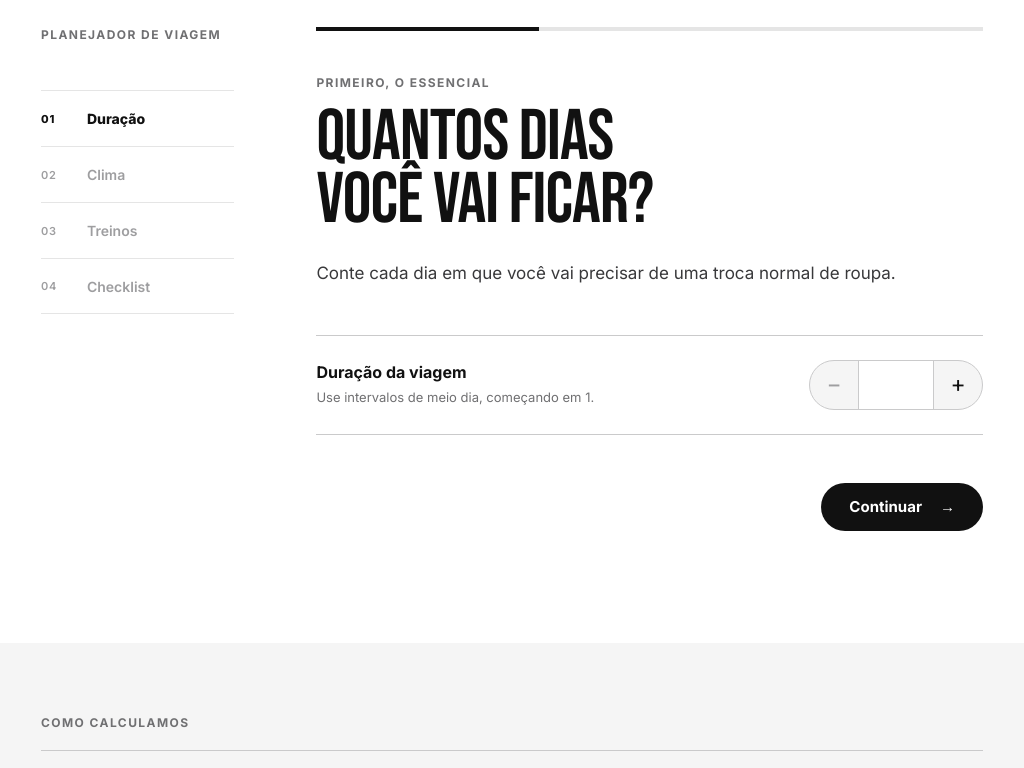
Test: App › avança a duração de meio em meio dia pelos botões
(page scrolled)
Step 1. Click the button named "Aumentar duração da viagem" → (958, 384), box [934,360,982,408]
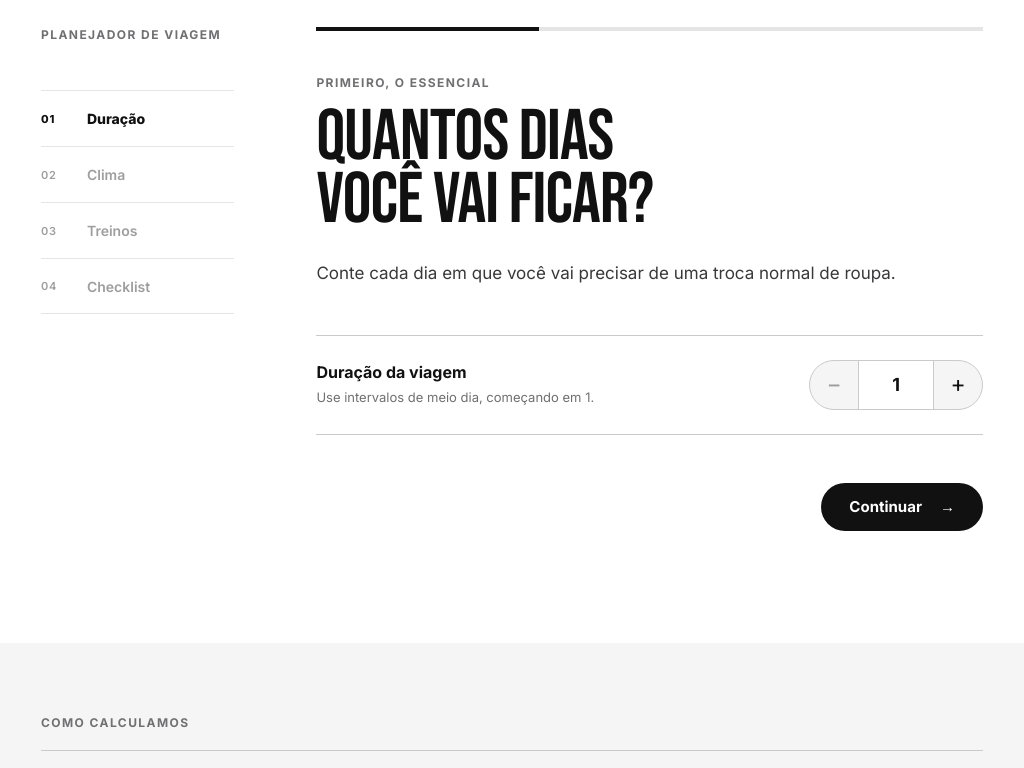
Result: the number field labelled "Duração da viagem" holds "1" at [858,360,934,408]
Step 2. Click the button named "Aumentar duração da viagem" → (958, 384), box [934,360,982,408]
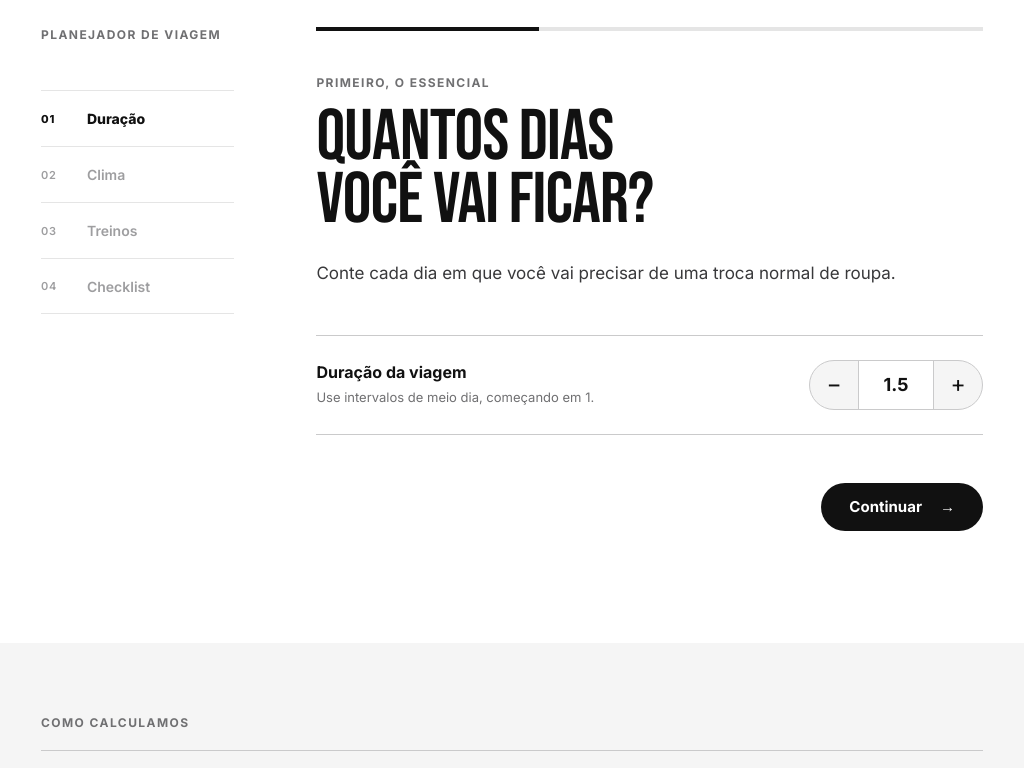
Result: the number field labelled "Duração da viagem" holds "1.5" at [858,360,934,408]
